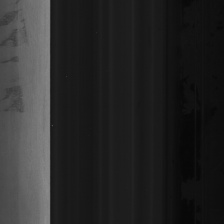water_spot: (1, 0, 33, 119)
